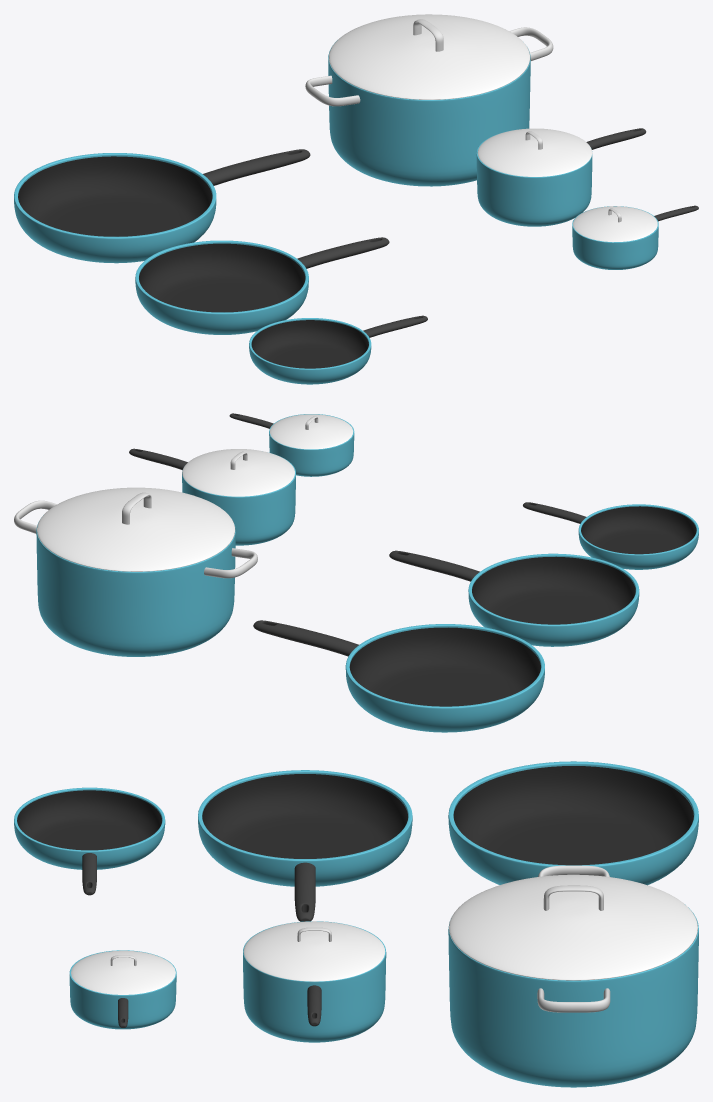
File: Pots and Pans.fbx
The picture shows the model from 3 angles, top to bottom: view 1: azimuth 30°, elevation 25°; view 2: azimuth 150°, elevation 25°; view 3: azimuth 270°, elevation 25°; orthographic projection. The views are drawn at different scales.
Visible parts, largest first — view 1: Large Pan, Large Pot, Medium Pan, Large Lid, Small Pan, Medium Pot, Medium Lid, Small Pot, Small Lid; view 2: Large Pan, Large Pot, Medium Pan, Large Lid, Small Pan, Medium Lid, Medium Pot, Small Pot, Small Lid; view 3: Large Pot, Large Pan, Medium Pan, Large Lid, Small Pan, Medium Pot, Medium Lid, Small Pot, Small Lid.
Part boxes in pixels (left/top/right/bottom): Large Pan: left=14, top=149, right=310, bottom=263; Large Pot: left=305, top=27, right=553, bottom=186; Medium Pan: left=135, top=237, right=389, bottom=334; Large Lid: left=329, top=14, right=530, bottom=99; Small Pan: left=249, top=315, right=427, bottom=384; Medium Pot: left=476, top=128, right=646, bottom=226; Medium Lid: left=477, top=128, right=592, bottom=176; Small Pot: left=572, top=205, right=698, bottom=269; Small Lid: left=573, top=206, right=657, bottom=242; Large Pan: left=253, top=620, right=544, bottom=732; Large Pot: left=14, top=500, right=257, bottom=656; Medium Pan: left=389, top=550, right=639, bottom=646; Large Lid: left=37, top=487, right=235, bottom=571; Small Pan: left=523, top=502, right=698, bottom=569; Medium Lid: left=182, top=449, right=294, bottom=496; Medium Pot: left=129, top=448, right=295, bottom=545; Small Pot: left=229, top=413, right=354, bottom=476; Small Lid: left=270, top=414, right=353, bottom=449; Large Pot: left=448, top=865, right=698, bottom=1087; Large Pan: left=448, top=761, right=698, bottom=885; Medium Pan: left=198, top=770, right=412, bottom=921; Large Lid: left=449, top=874, right=697, bottom=980; Small Pan: left=14, top=787, right=165, bottom=895; Medium Pot: left=243, top=921, right=386, bottom=1042; Medium Lid: left=243, top=921, right=385, bottom=981; Small Pot: left=69, top=950, right=176, bottom=1029; Small Lid: left=71, top=950, right=175, bottom=994.
Size of the model in its own units: 575 by 137 by 533.
